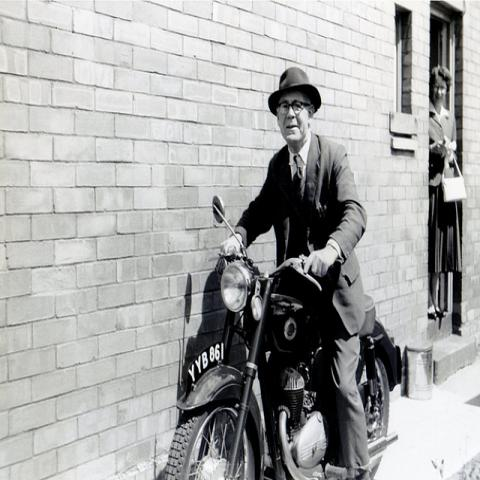motorcycle: (164, 196, 402, 474)
